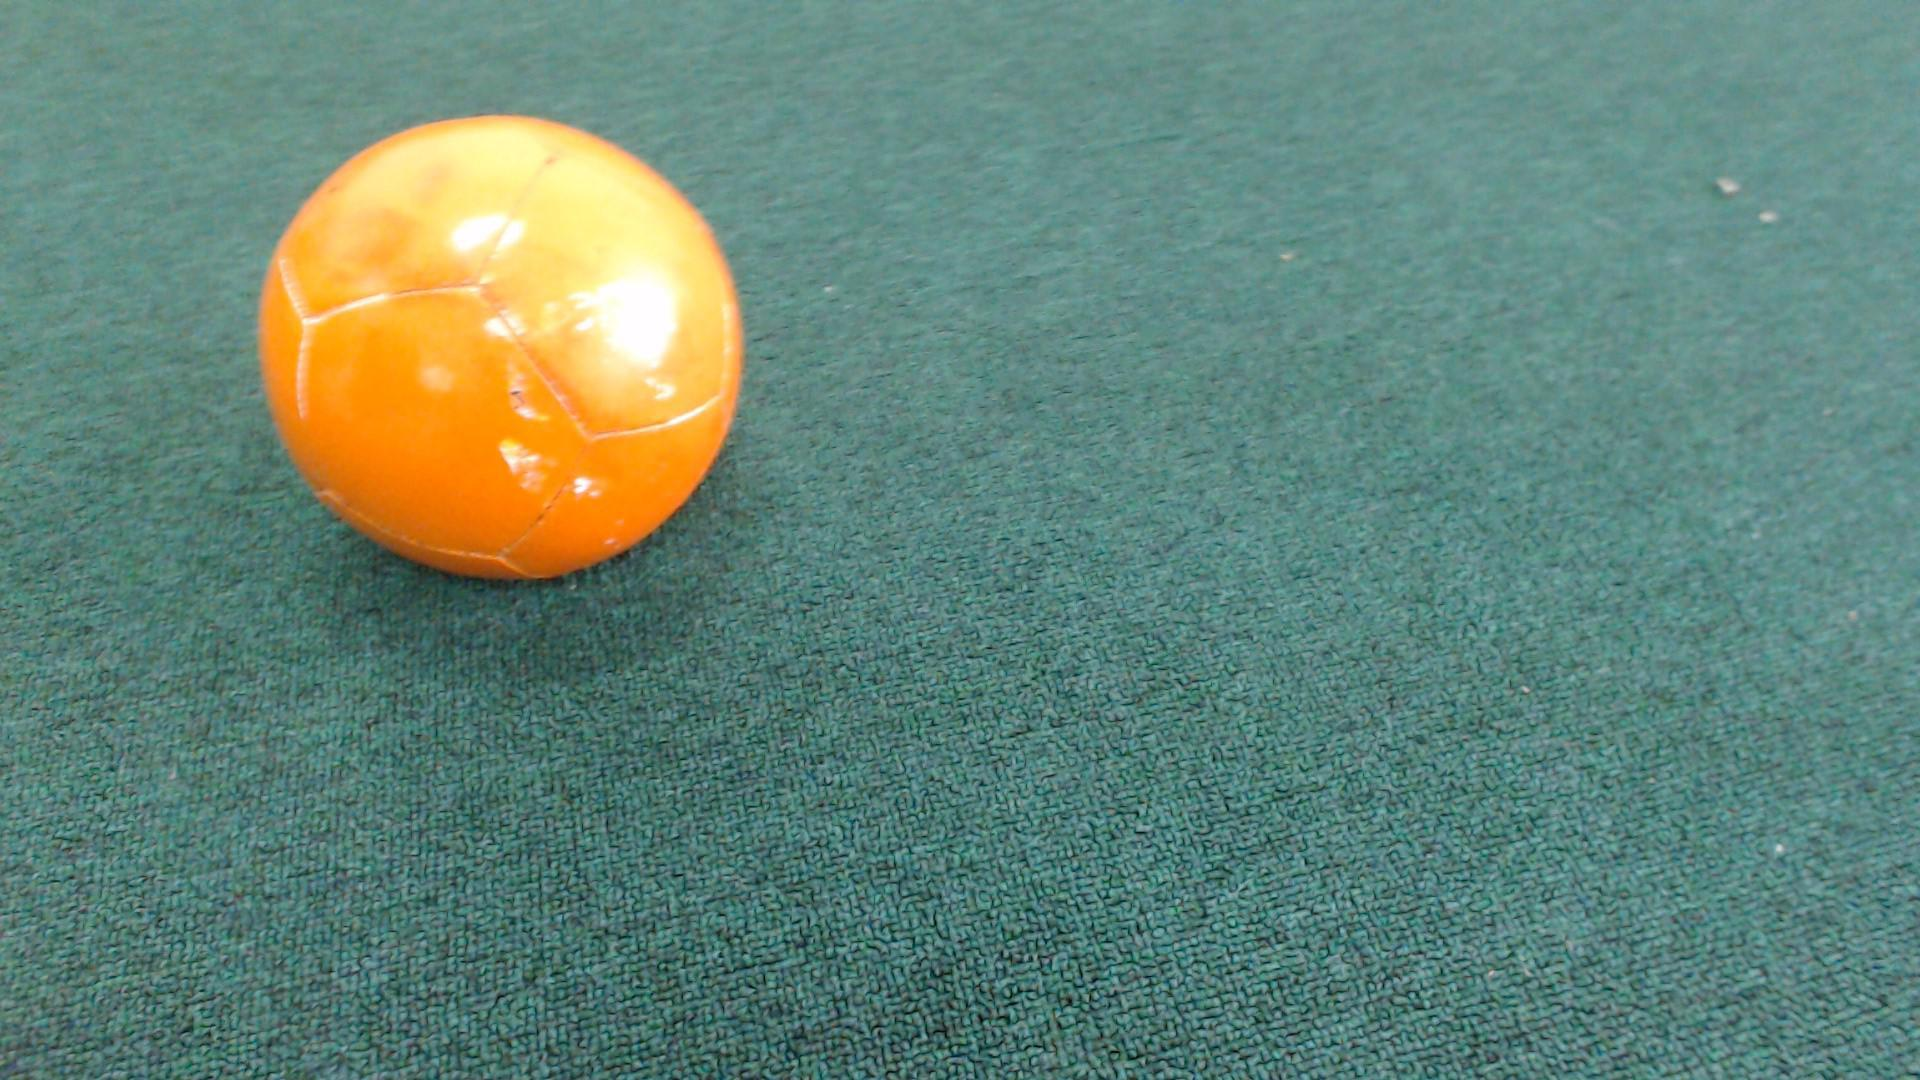bola: (232, 86, 767, 601)
